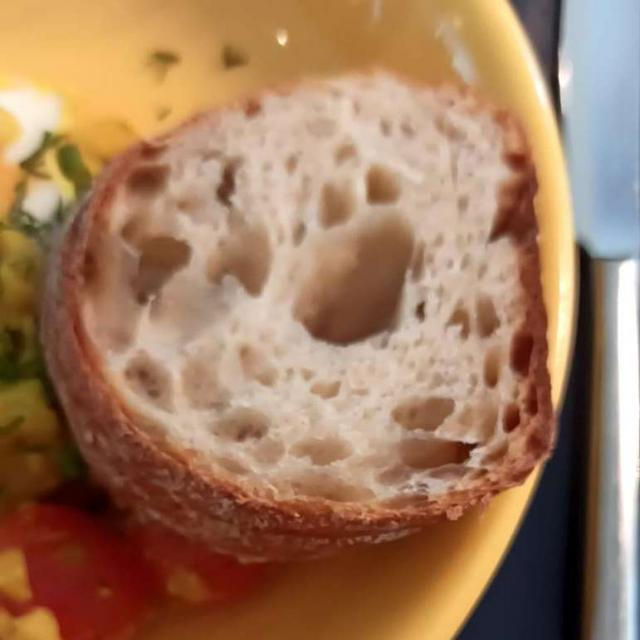bread-white: (44, 74, 553, 544)
